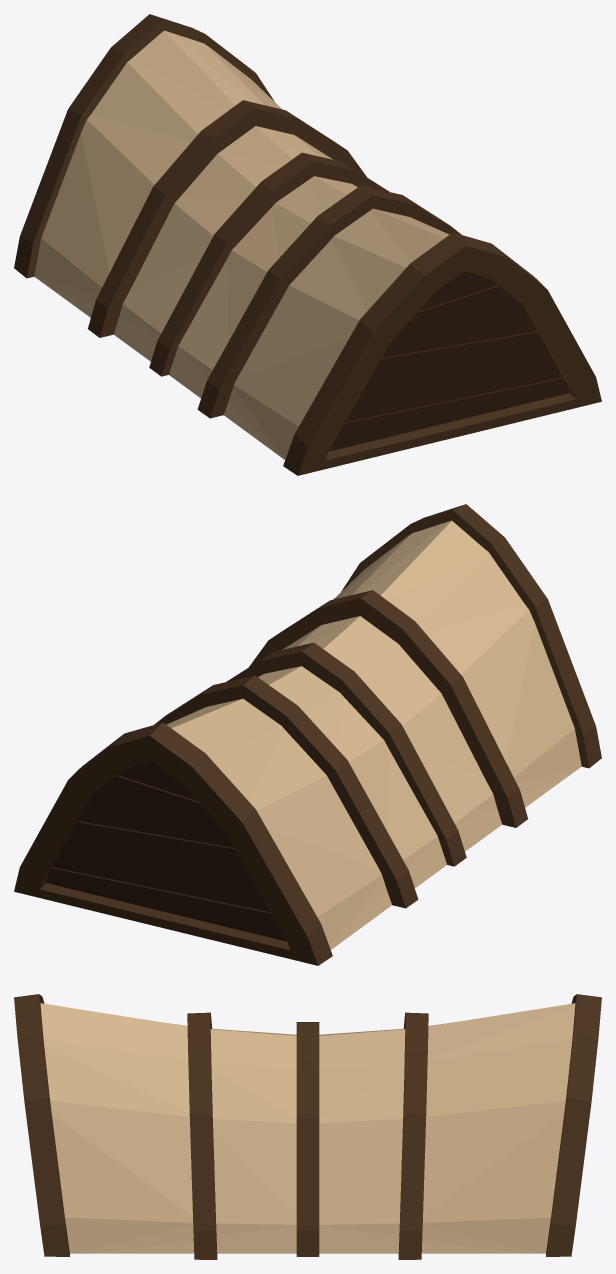
File: Tribal_Plains_Tent_Top_Hide_Wood_Timber_Large_01.fbx
The picture shows the model from 3 angles, top to bottom: view 1: azimuth 30°, elevation 25°; view 2: azimuth 150°, elevation 25°; view 3: azimuth 270°, elevation 25°; orthographic projection. The views are drawn at different scales.
Parts seen in each view (by area): view 1: Tribal_Plains_Tent_Top_Hide_Wood_Timber_Large_01; view 2: Tribal_Plains_Tent_Top_Hide_Wood_Timber_Large_01; view 3: Tribal_Plains_Tent_Top_Hide_Wood_Timber_Large_01.
Boxes of the visible parts, x1,y1,x2,y2 form: Tribal_Plains_Tent_Top_Hide_Wood_Timber_Large_01: [14, 14, 601, 475]; Tribal_Plains_Tent_Top_Hide_Wood_Timber_Large_01: [14, 504, 601, 965]; Tribal_Plains_Tent_Top_Hide_Wood_Timber_Large_01: [14, 994, 601, 1259].
Size of the model in its own units: 6.58 by 4.11 by 11.32.
